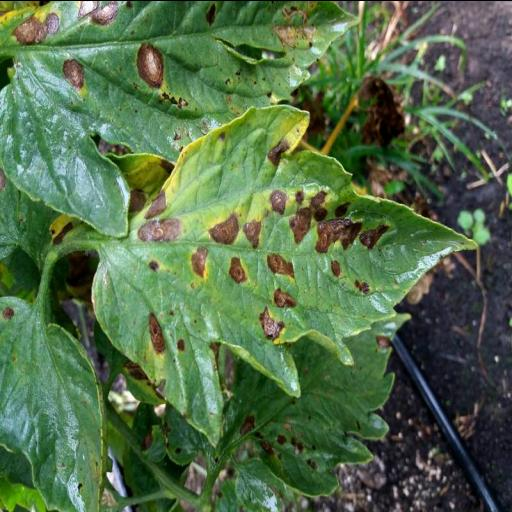Early Blight: (86, 106, 476, 438), (0, 0, 361, 232)
